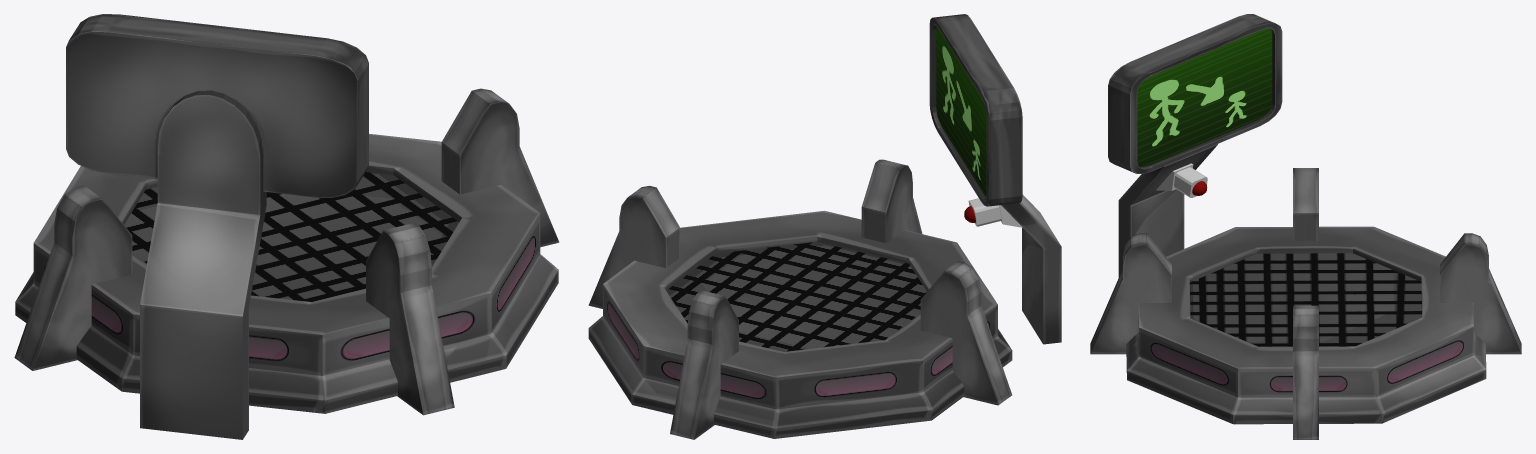
File: Shring-Grow-Pads-Compact.fbx
The picture shows the model from 3 angles, left to right: view 1: azimuth 30°, elevation 25°; view 2: azimuth 150°, elevation 25°; view 3: azimuth 270°, elevation 25°; orthographic projection. The views are drawn at different scales.
Visible parts, largest first — view 1: ComputerScreen, ShrinkPad, ShrinkPadSides, ShrinkPadSides.001; view 2: ShrinkPad, ComputerScreen, ShrinkPadSides, ShrinkPadSides.001, ButtonHolder; view 3: ShrinkPad, ComputerScreen, ShrinkPadSides.001, ShrinkPadSides, ButtonHolder.
Part boxes in pixels (x1,y1,x2,y2): ComputerScreen: (66,14,368,439); ShrinkPad: (15,134,558,413); ShrinkPadSides: (14,88,559,370); ShrinkPadSides.001: (366,223,454,415); ShrinkPad: (588,210,1012,438); ComputerScreen: (929,14,1061,344); ShrinkPadSides: (588,185,1011,405); ShrinkPadSides.001: (670,159,922,439); ButtonHolder: (968,198,1022,227); ShrinkPad: (1126,226,1486,424); ComputerScreen: (1108,14,1282,277); ShrinkPadSides.001: (1090,233,1521,354); ShrinkPadSides: (1293,168,1318,439); ButtonHolder: (1156,163,1207,197).
Bounding box in the file's own units: 709 × 461 × 709.
